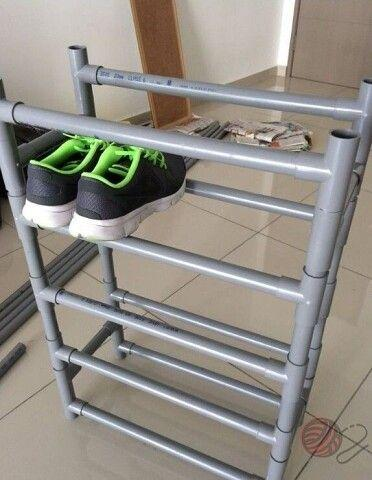PVC: (23, 236, 78, 424), (73, 84, 358, 113), (317, 130, 347, 291), (140, 243, 256, 278), (281, 300, 313, 417), (82, 363, 179, 400), (193, 406, 270, 447), (209, 146, 299, 173), (49, 285, 105, 325), (208, 347, 271, 381), (116, 130, 191, 154), (96, 415, 152, 446), (123, 319, 186, 344), (175, 452, 235, 477), (211, 190, 294, 207)
